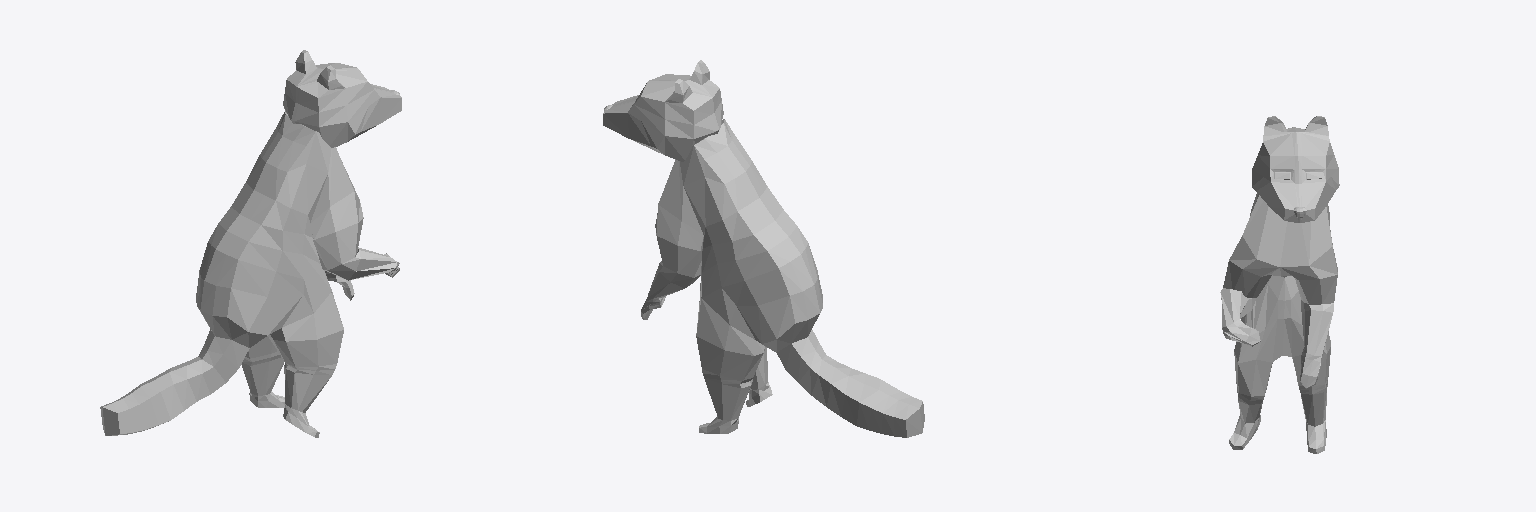
File: raccoon cop.obj
The picture shows the model from 3 angles: view 1: azimuth 30°, elevation 25°; view 2: azimuth 150°, elevation 25°; view 3: azimuth 270°, elevation 25°; orthographic projection.
Visible parts, largest first — view 1: Cube; view 2: Cube; view 3: Cube.
Part boxes in pixels (x1,y1,x2,y2): Cube: (100,50,401,437); Cube: (603,60,924,437); Cube: (1220,116,1339,453).
Bounding box in the file's own units: 7.66 × 8.37 × 2.59.